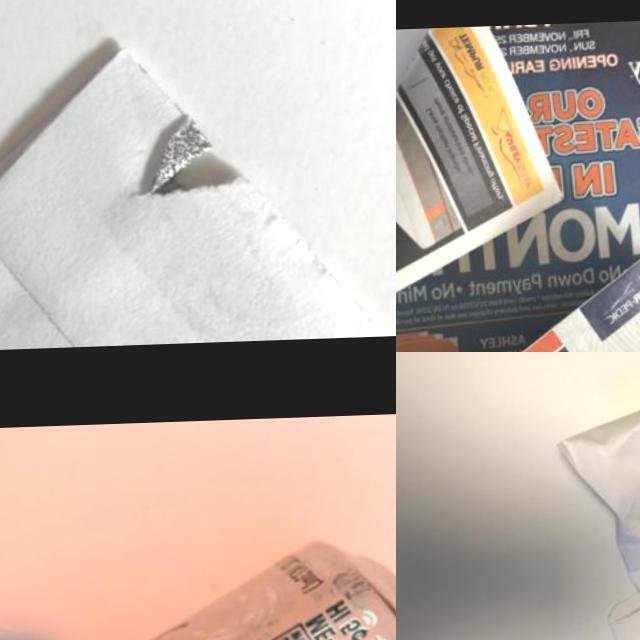lata: (0, 534, 396, 640)
papel: (0, 36, 387, 352), (396, 16, 640, 352), (557, 380, 640, 640)
